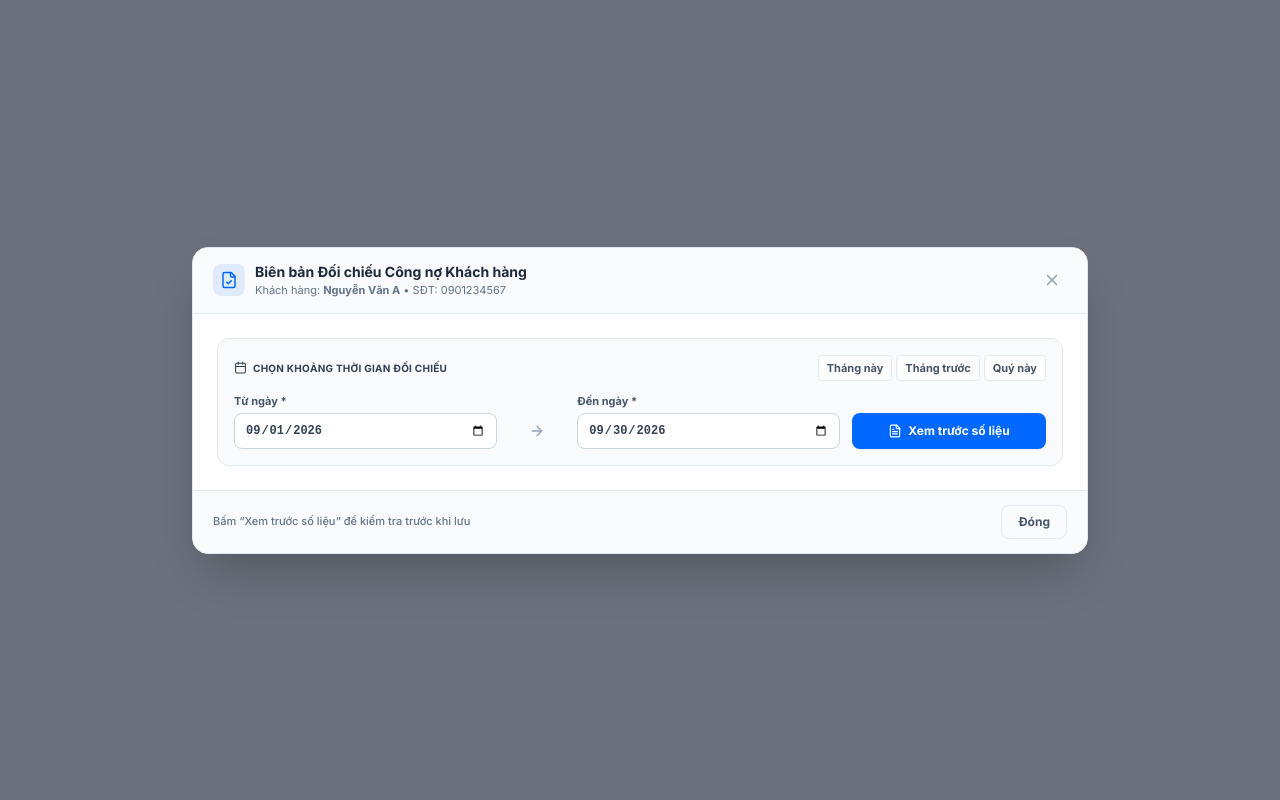
Test: NCL-10-CN-007: Đối chiếu công nợ và in giấy xác nhận nợ › NCL-10-CN-007-TC-03: Kỳ đối chiếu không có giao dịch › Hiển thị thông báo kỳ không có phát sinh và số dư đầu kỳ bằng số dư cuối kỳ
Click the button "Xem trước số liệu" at (949, 430), box [852, 412, 1046, 448]
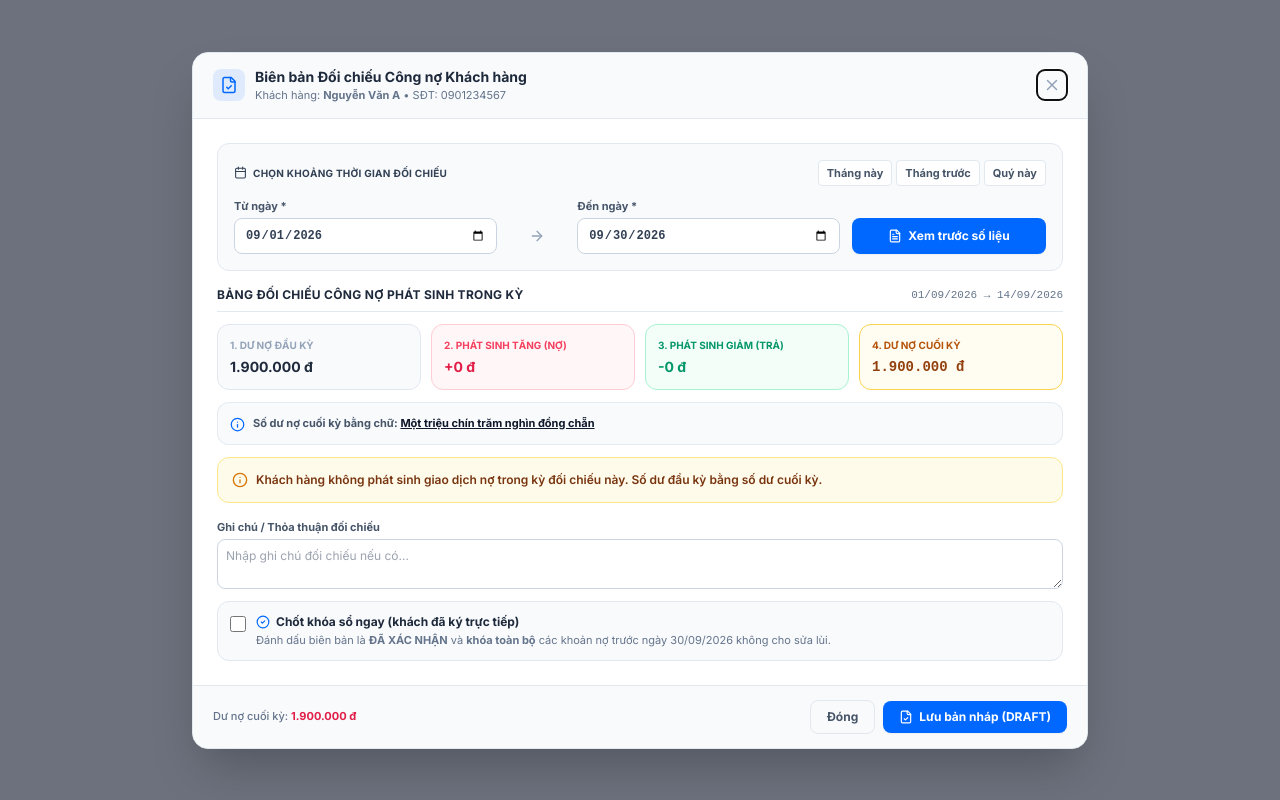
Result: the text "Khách hàng không phát sinh giao dịch nợ trong kỳ đối chiếu này" is shown at [256, 471, 822, 486]
Result: the text "1. Dư nợ đầu kỳ" is shown at [230, 338, 314, 350]
Result: the text "4. Dư nợ cuối kỳ" is shown at [872, 338, 961, 350]
